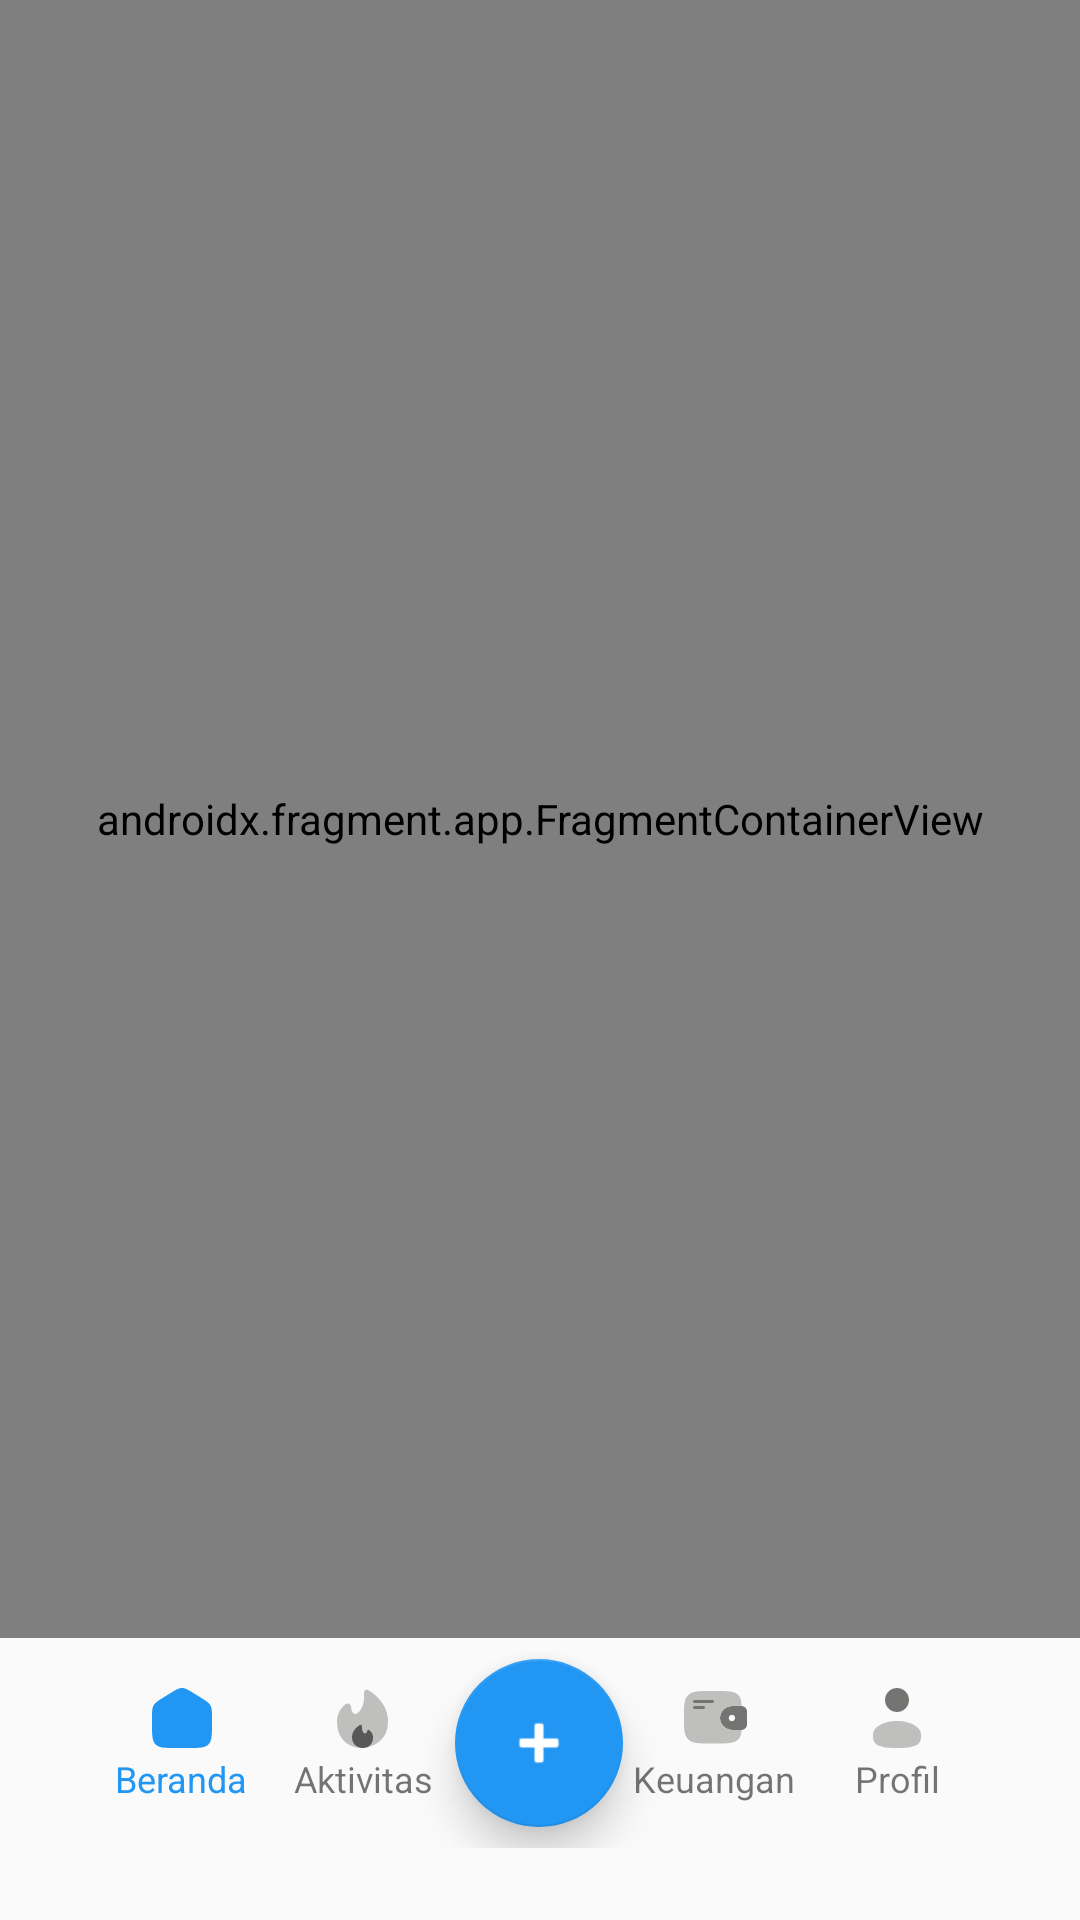

Named icons in this screenshot (1080*1920) and their bounding boxes, [x1=x1, y1=y1, x2=x2, y2=y2]:
add: [x1=455, y1=1659, x2=623, y2=1827]
